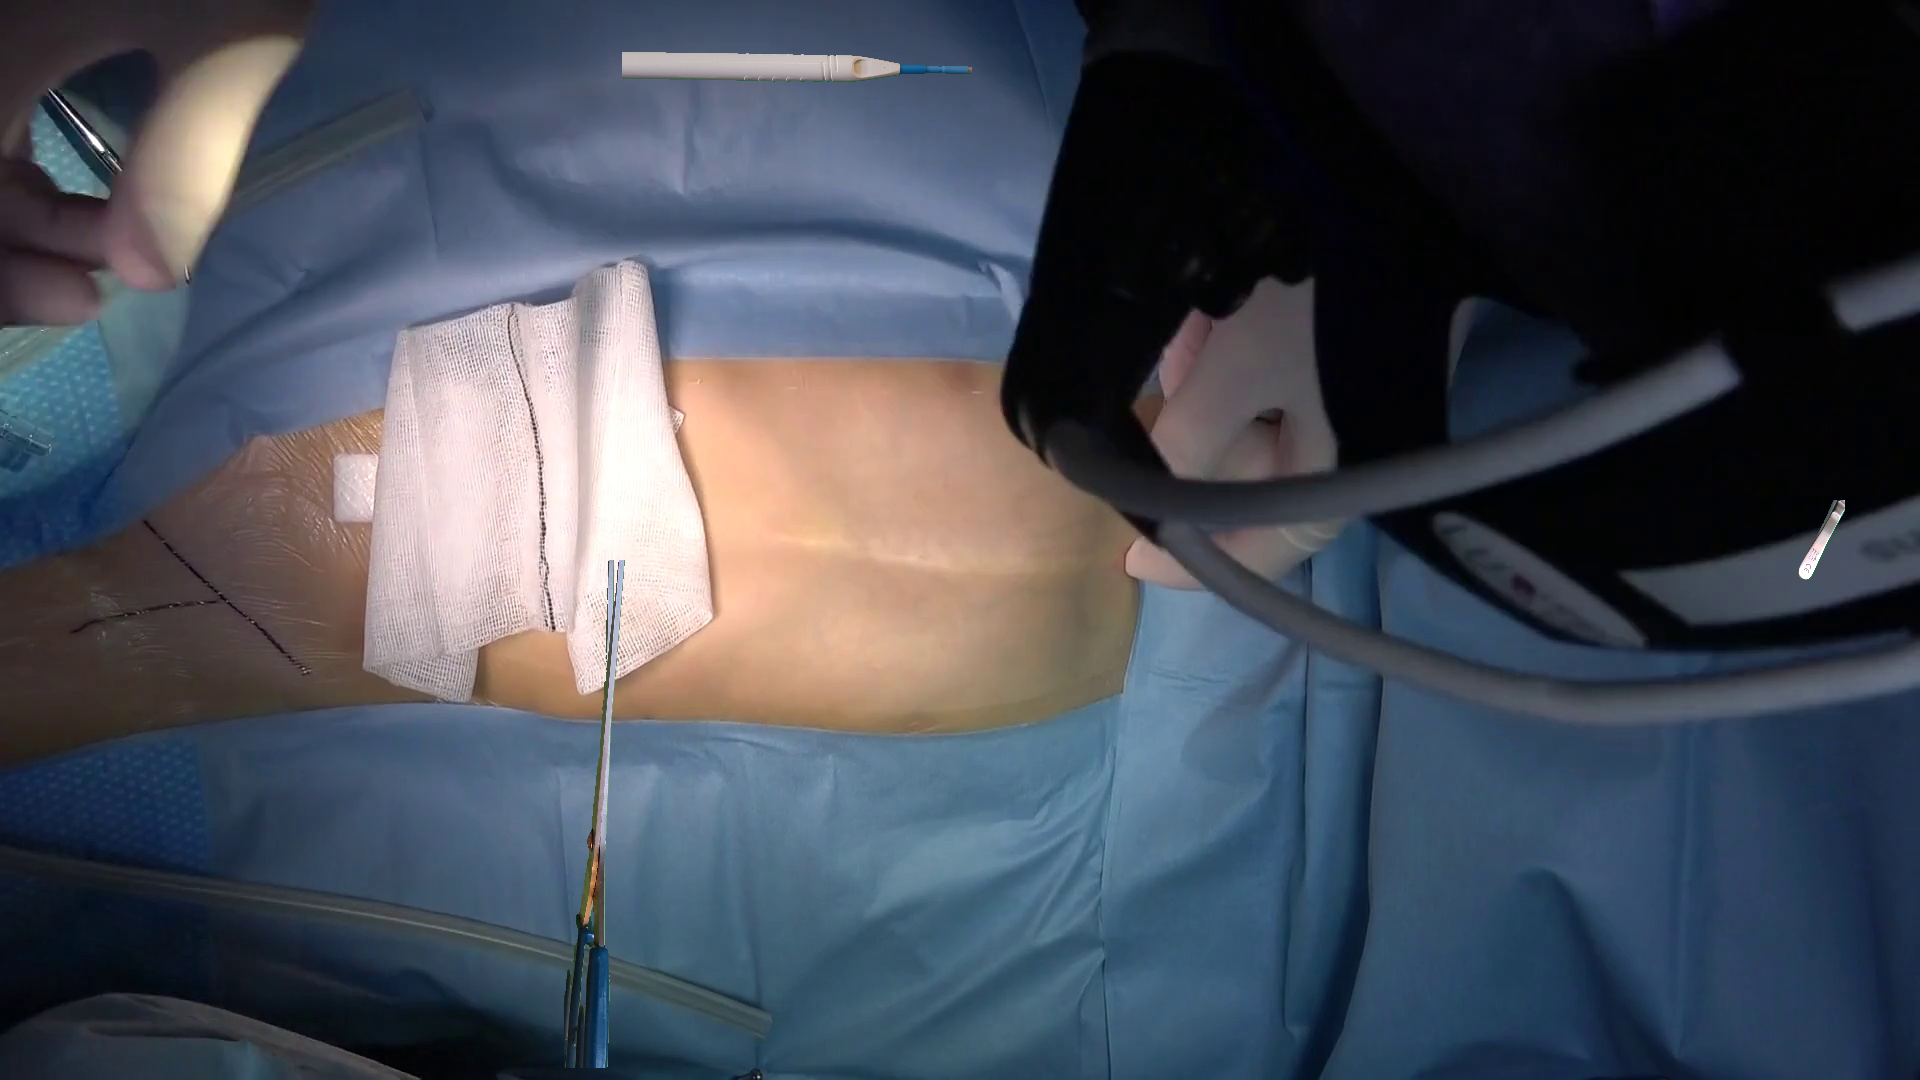diathermy: (622, 51, 971, 80)
forceps: (1797, 500, 1844, 579)
scissors: (564, 560, 624, 1067)
